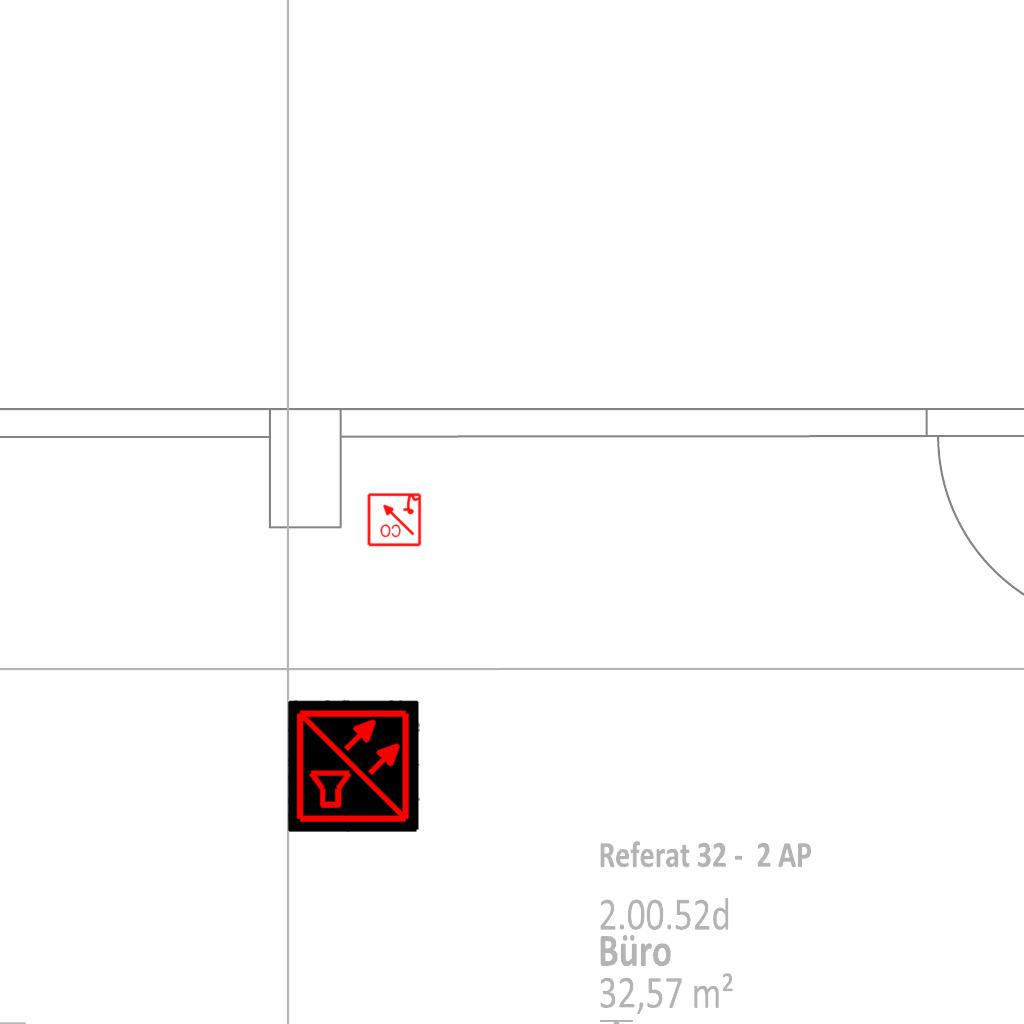OKW_Multisensormelder_(Kombination_optischer_Rauch-Kahlenmonoxid_Waerme-Melder): (288, 700, 420, 832)
ROA_Rauchmelder_optisch_mit_Signalgeber_(Sockelsirene): (366, 491, 422, 547)
